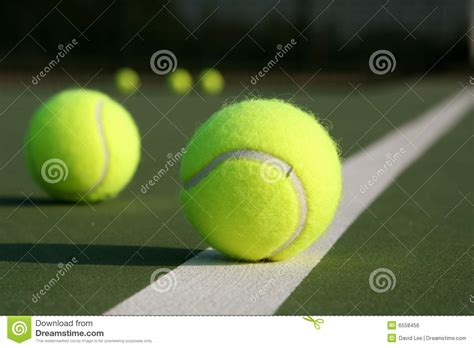tennis_ball: (179, 96, 343, 263), (24, 87, 142, 203)
